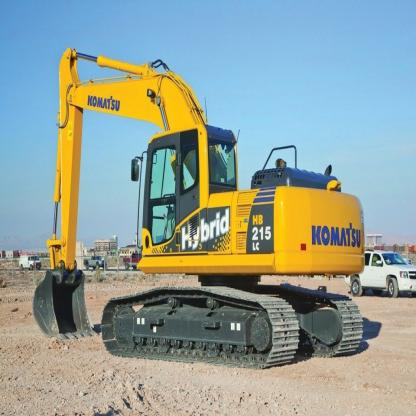excavator: (34, 35, 368, 373)
